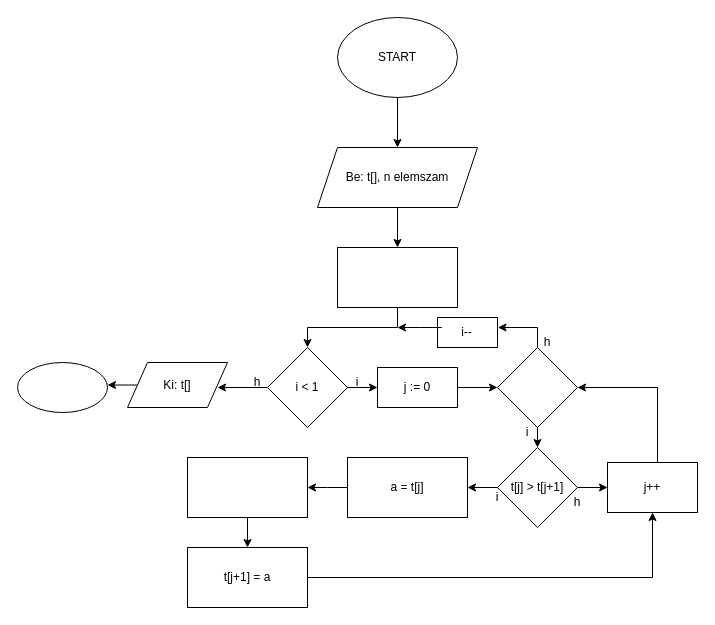
Image size: 715x625. Some labels were removed from this diagram. The centre of each missing label's shape, as x and y in pixels:
END: the point at 62,387
i := n-1: the point at 397,277
j < i-1: the point at 537,387
t[j] = t[j+1]: the point at 247,487
